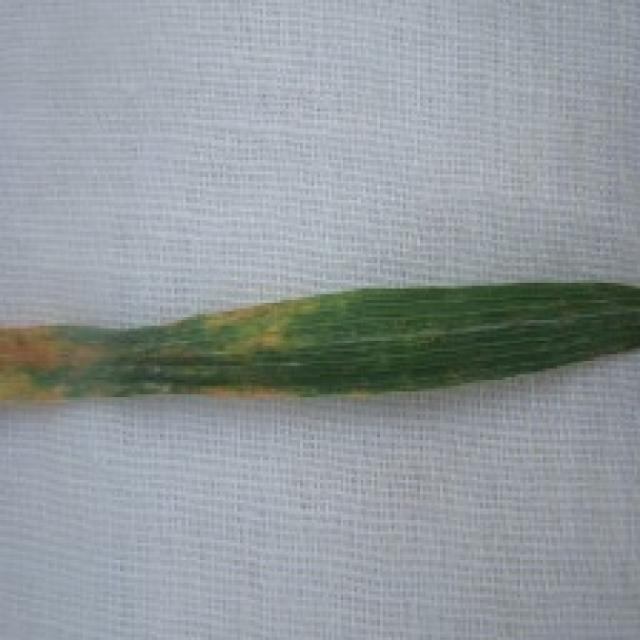Bacterial_Blight: (0, 325, 115, 399), (198, 308, 337, 350), (188, 381, 316, 398)
